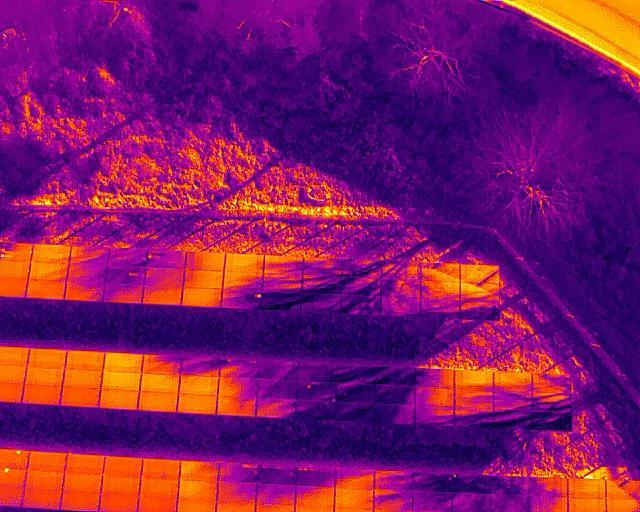Cell: (220, 290, 262, 309)
No-Anomaly: (178, 459, 218, 481), (23, 487, 61, 510), (178, 374, 220, 394), (137, 390, 179, 410), (62, 474, 102, 495), (65, 350, 106, 370), (60, 385, 101, 405), (140, 479, 179, 500), (142, 285, 182, 305), (102, 456, 142, 476), (179, 481, 217, 502), (102, 476, 140, 497), (98, 389, 140, 408), (335, 490, 374, 510), (141, 459, 180, 479), (101, 370, 142, 389), (184, 251, 225, 270), (26, 451, 67, 470), (66, 454, 103, 475), (22, 367, 65, 385), (182, 287, 220, 307), (26, 280, 66, 299), (566, 479, 606, 498), (177, 393, 217, 412), (26, 468, 64, 488), (25, 349, 67, 367), (223, 254, 265, 272), (20, 385, 62, 403), (140, 372, 181, 390), (185, 269, 223, 288), (28, 263, 68, 281), (30, 244, 70, 262), (63, 370, 103, 387), (454, 370, 493, 387), (103, 354, 141, 371), (493, 371, 532, 387), (99, 496, 138, 512), (62, 496, 101, 512), (567, 498, 606, 512)
Shadowing: (256, 459, 296, 484), (295, 461, 334, 486), (255, 484, 295, 507), (373, 489, 412, 512), (179, 354, 221, 375), (411, 490, 451, 512), (373, 468, 413, 490), (532, 410, 572, 432), (218, 460, 256, 483), (380, 296, 421, 317), (527, 476, 568, 497), (256, 397, 297, 418), (333, 469, 374, 490), (454, 407, 495, 428), (295, 486, 334, 508), (217, 483, 256, 505), (413, 471, 452, 493), (218, 376, 258, 397), (141, 352, 181, 373), (341, 295, 381, 316), (460, 281, 500, 302), (381, 278, 421, 299), (493, 387, 533, 408), (415, 386, 455, 407), (335, 383, 375, 404), (374, 404, 414, 425), (459, 263, 500, 283), (374, 383, 415, 403), (298, 380, 337, 401), (492, 409, 531, 430), (420, 298, 460, 318), (220, 355, 258, 376), (380, 261, 422, 280), (342, 276, 381, 296), (303, 274, 342, 294), (451, 491, 490, 511), (455, 387, 494, 407), (256, 379, 297, 398), (105, 265, 146, 284), (415, 367, 455, 386), (301, 294, 341, 313), (262, 292, 302, 311), (104, 283, 142, 303), (65, 282, 105, 301), (420, 281, 460, 300), (217, 396, 257, 415), (532, 373, 571, 392), (461, 302, 500, 321), (264, 273, 303, 292), (146, 266, 185, 285), (489, 476, 528, 495), (335, 404, 374, 423), (452, 474, 489, 494), (222, 272, 263, 290), (414, 407, 455, 425), (374, 366, 414, 384), (107, 248, 147, 266), (297, 401, 337, 419), (532, 392, 572, 410), (298, 363, 337, 381), (67, 265, 106, 283), (147, 250, 186, 268), (257, 361, 298, 378), (336, 365, 374, 383), (70, 247, 108, 265), (415, 369, 455, 386), (420, 263, 460, 280), (263, 256, 303, 273), (303, 258, 342, 275), (490, 495, 528, 512), (527, 497, 568, 512)
